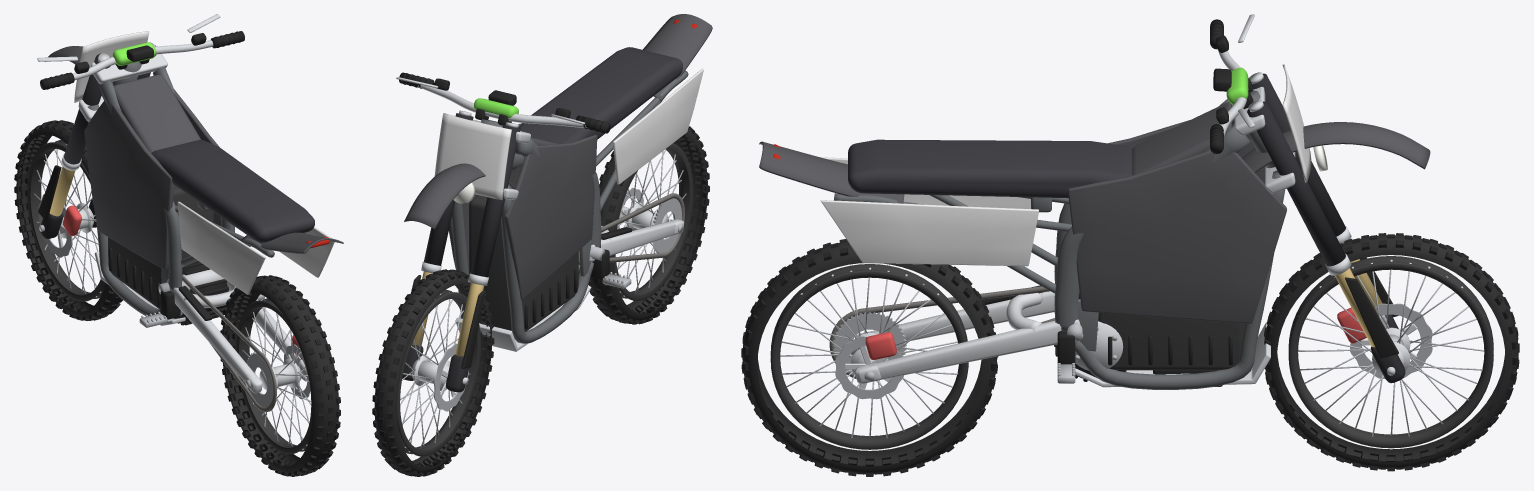
The model's file is bike-storm.glb.
3 renders of one model, left to right at view 1: azimuth 30°, elevation 25°; view 2: azimuth 150°, elevation 25°; view 3: azimuth 270°, elevation 25°, orthographic. The views are drawn at different scales.
Visible parts, largest first — view 1: body, wheelR, wheelF, fork, swingarm, slider; view 2: body, wheelF, fork, wheelR, swingarm, slider; view 3: body, wheelR, wheelF, fork, swingarm, slider.
Part boxes in pixels (box(x1,y1,x2,y2)): body: box(84, 62, 343, 327); wheelR: box(220, 275, 340, 476); wheelF: box(14, 120, 122, 320); fork: box(37, 14, 244, 170); swingarm: box(158, 269, 307, 412); slider: box(38, 165, 96, 238); body: box(449, 14, 712, 351); wheelF: box(372, 269, 494, 476); fork: box(396, 72, 610, 285); wheelR: box(588, 126, 709, 324); swingarm: box(578, 193, 685, 264); slider: box(402, 271, 485, 392); body: box(759, 90, 1286, 389); wheelR: box(741, 239, 998, 476); wheelF: box(1264, 233, 1519, 471); fork: box(1210, 14, 1430, 275); swingarm: box(829, 285, 1083, 383); slider: box(1335, 257, 1405, 383).
Size of the model in its own units: 0.82 by 1.26 by 2.2.
